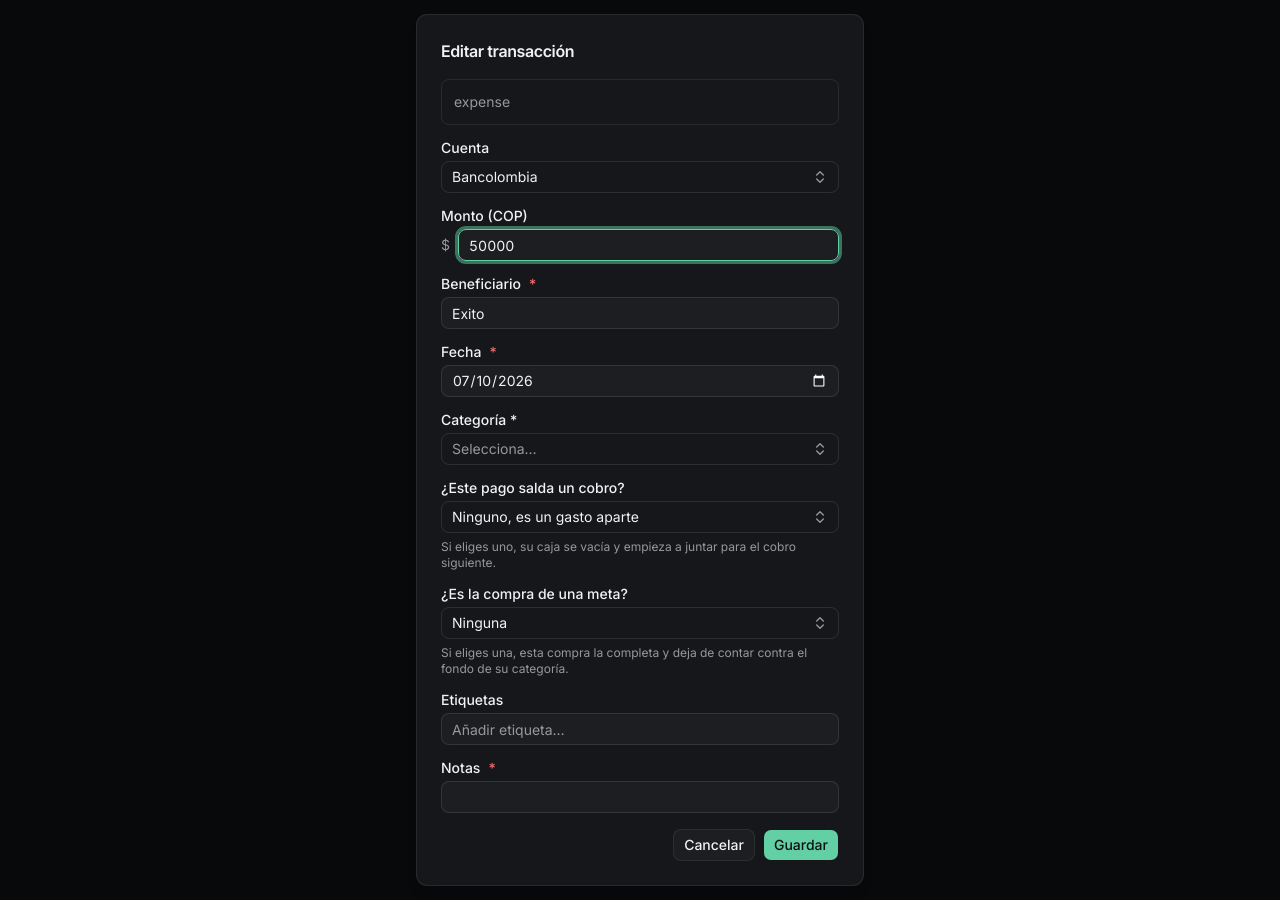
015 — a payment may name the charge it settled › a payment already saved can still be pointed at the charge it settled
Click the dropdown named "¿Este pago salda un cobro?".
click(640, 517)  # box [441,501,839,533]
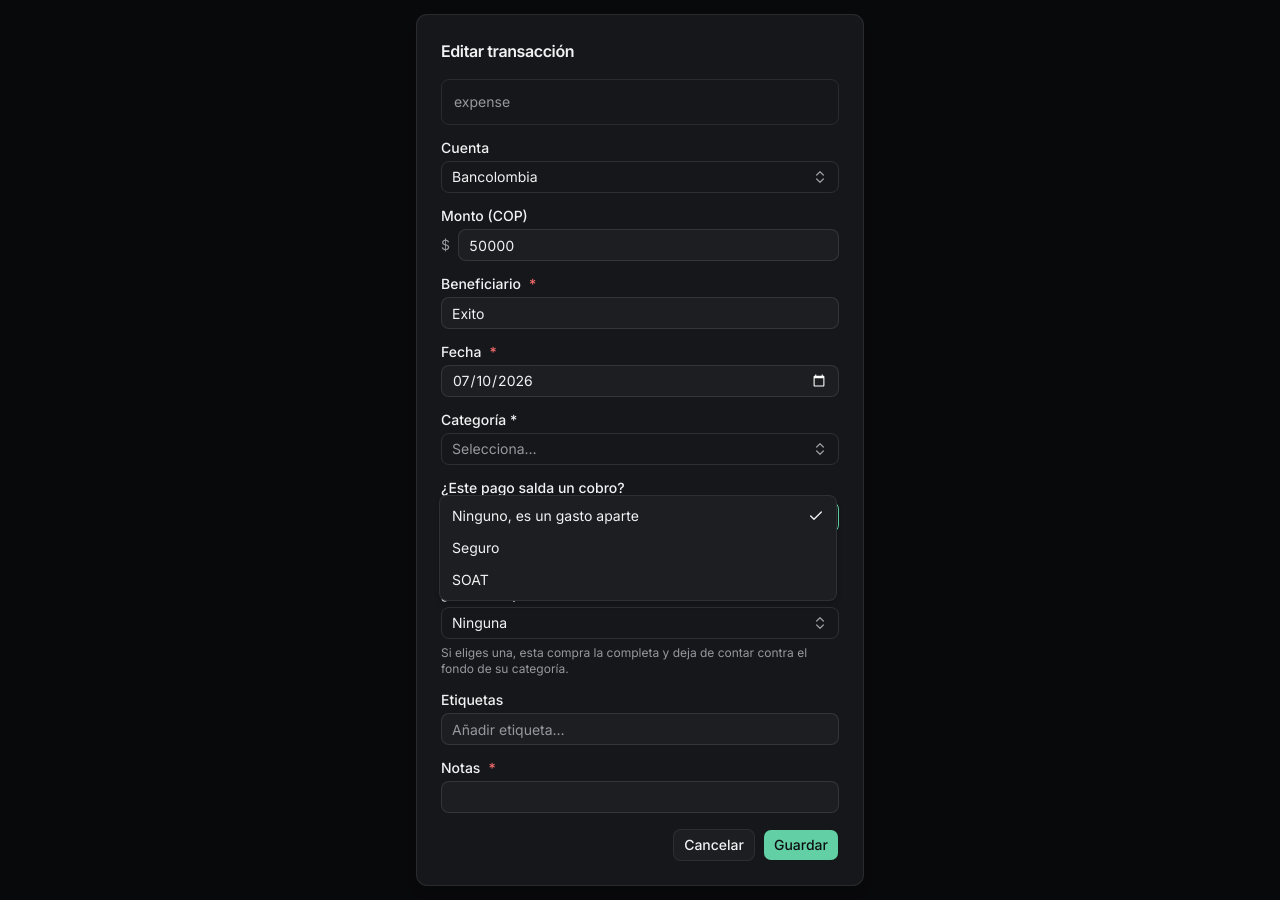
expect the option "Seguro" is shown: met, box [452,539,500,556]
expect the option "SOAT" is shown: met, box [452,571,489,588]
expect the option "Ninguno, es un gasto aparte" is shown: met, box [444,500,832,532]
